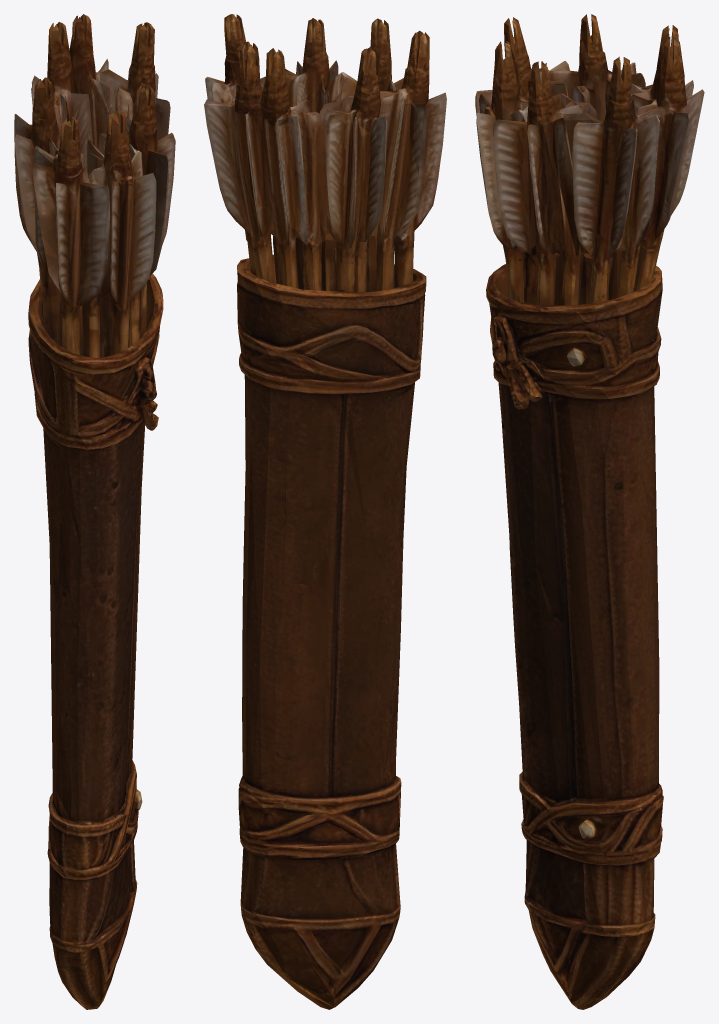
File: quiver-arrows.glb
3 views of the same model, side by side, from view 1: azimuth 30°, elevation 25°; view 2: azimuth 150°, elevation 25°; view 3: azimuth 270°, elevation 25° (orthographic). The views are drawn at different scales.
Parts seen in each view (by area): view 1: quiver-arrows; view 2: quiver-arrows; view 3: quiver-arrows.
Part boxes in pixels (<box>): quiver-arrows: <box>14,14,175,1009</box>; quiver-arrows: <box>204,14,446,1009</box>; quiver-arrows: <box>475,14,704,1009</box>.
Size of the model in its own units: 0.1492 by 0.7993 by 0.1681.
1 material, 1 textured.
